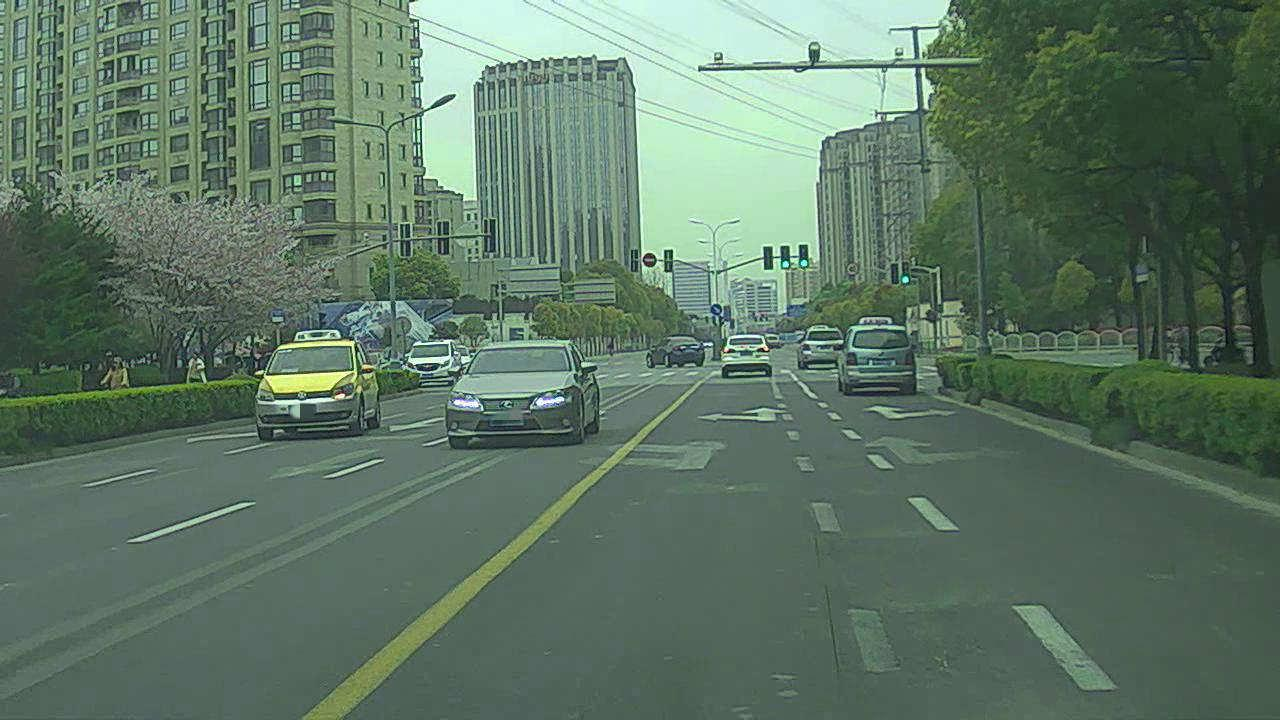traffic_light: (778, 244, 791, 269), (762, 246, 772, 270), (889, 263, 900, 284), (799, 245, 809, 267), (900, 263, 910, 285)
